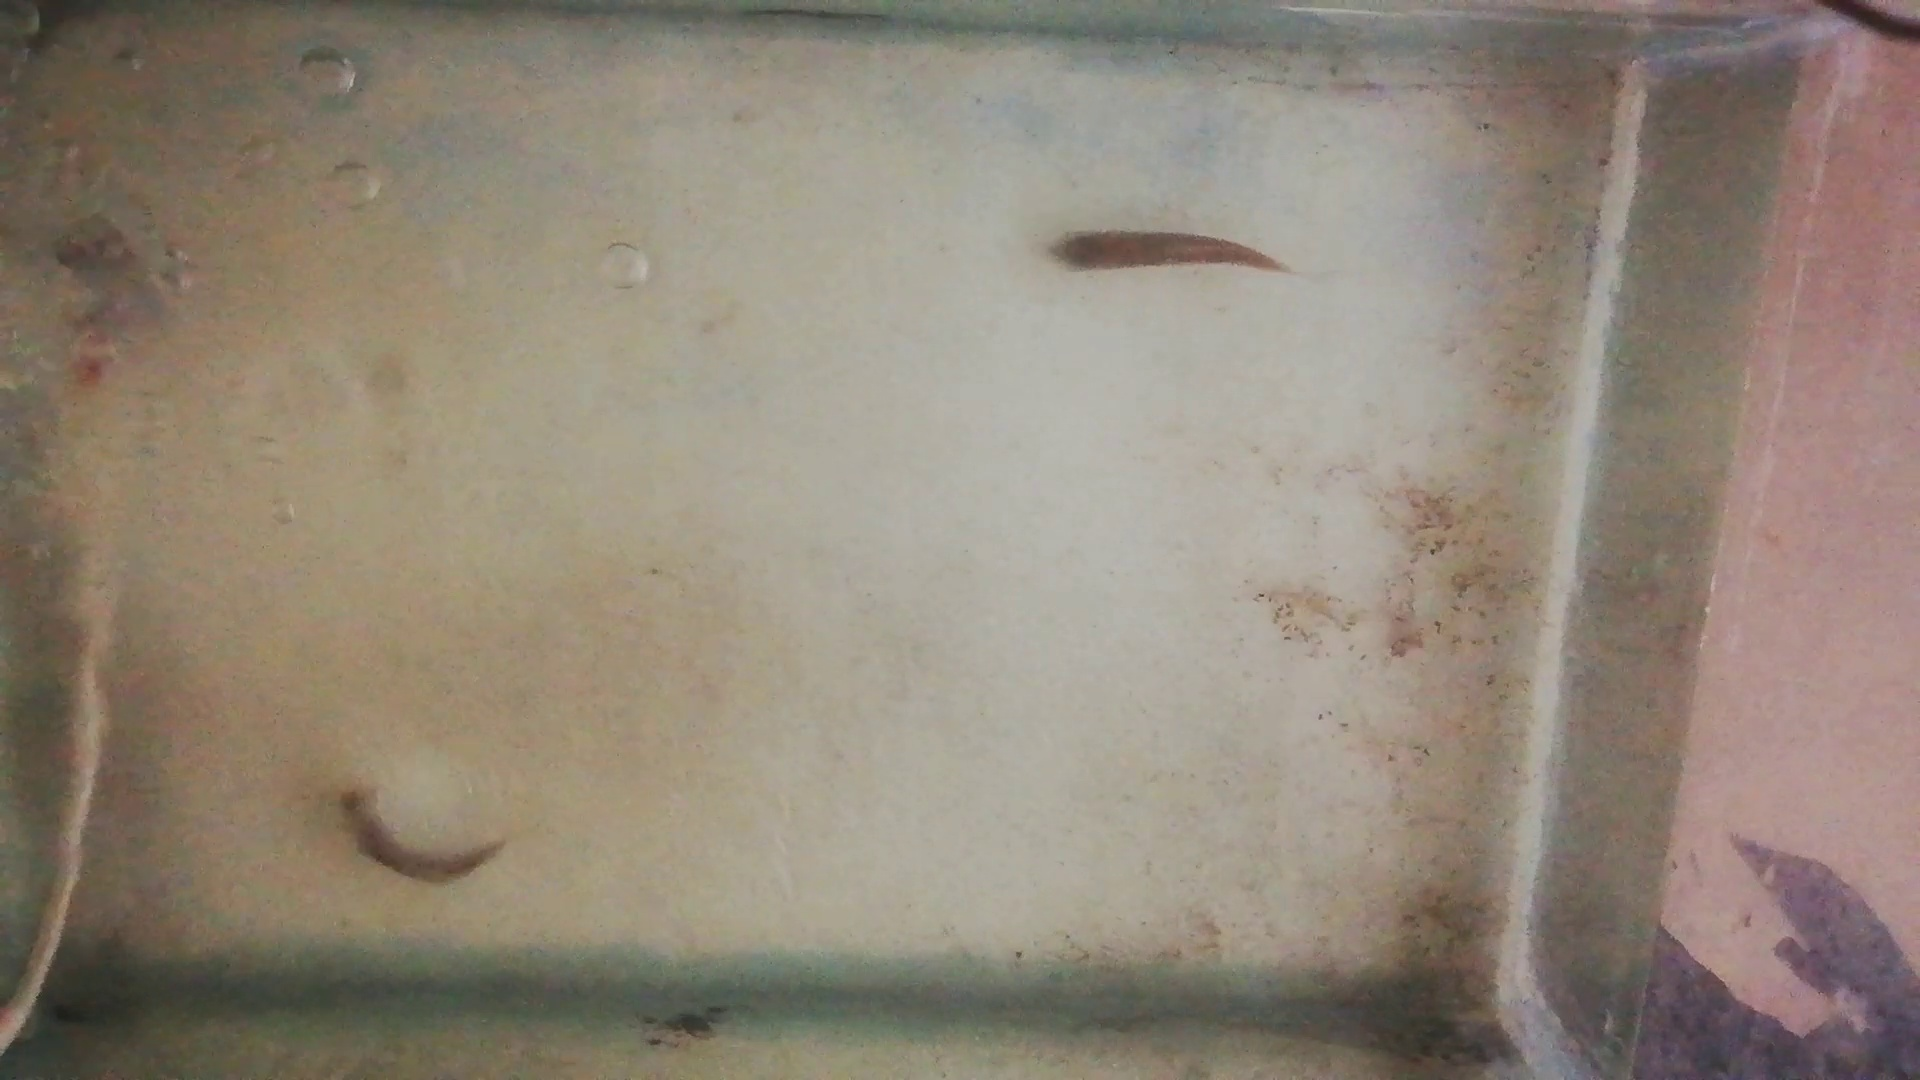fish: (334, 781, 505, 886), (1048, 229, 1288, 276)
